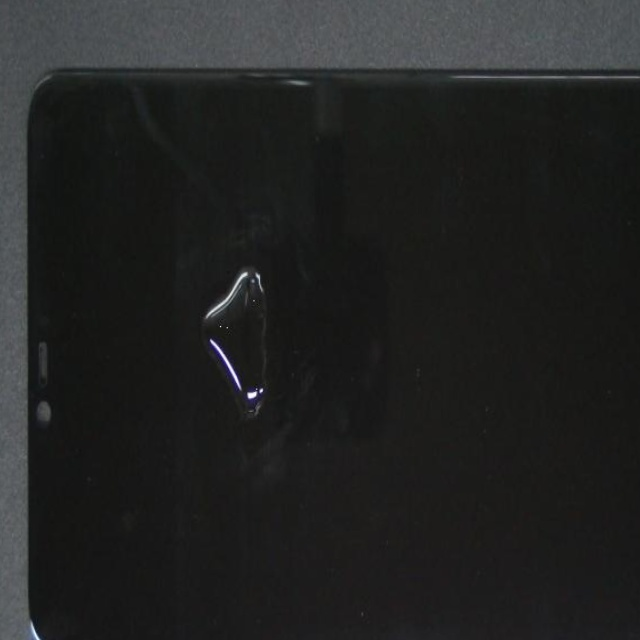oil: (62, 97, 337, 563)
